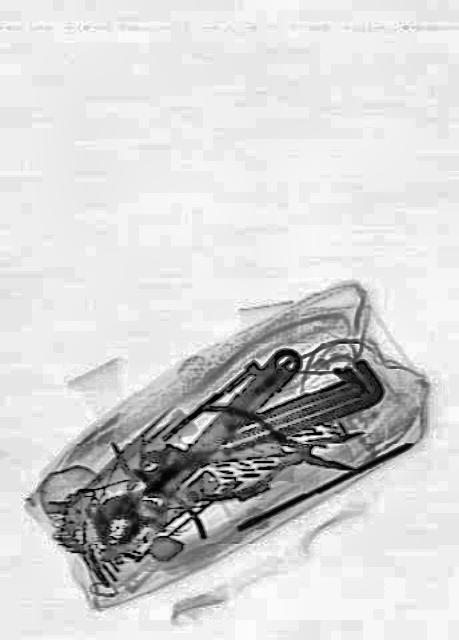Pliers: (184, 402, 362, 506)
Wrench: (84, 320, 310, 570)
